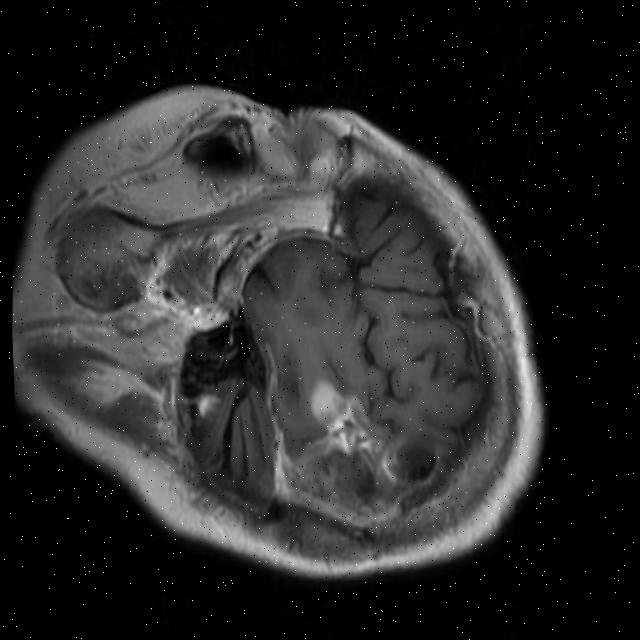Glioma: (305, 379, 390, 466)
